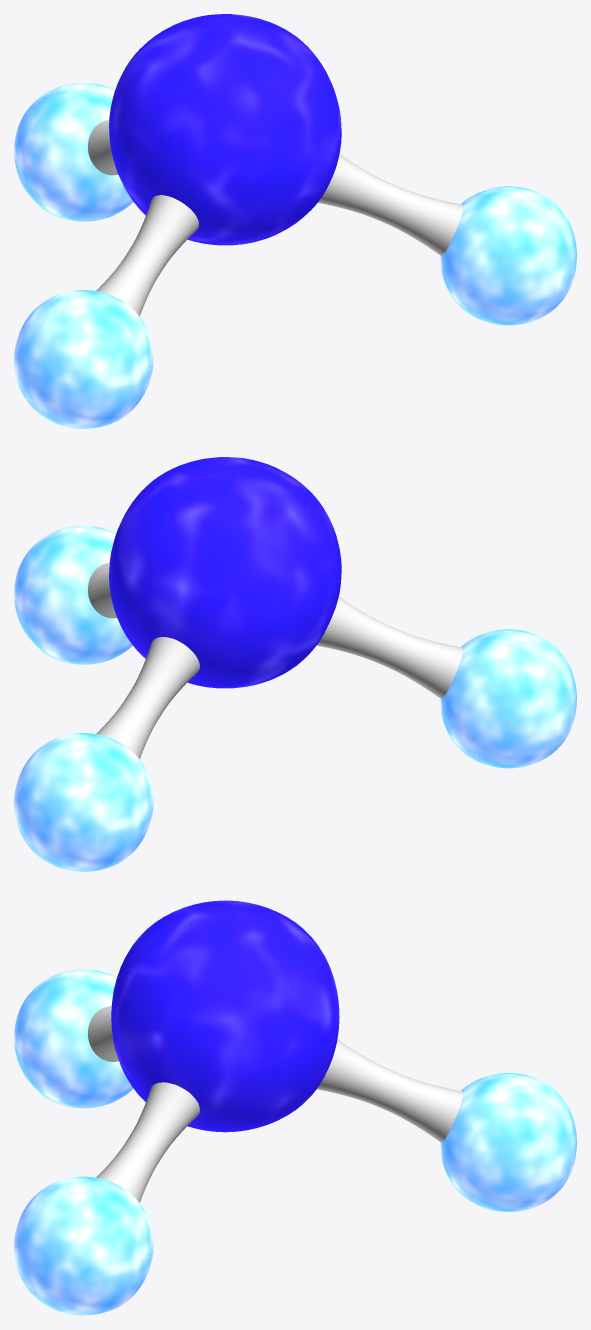
3 views of the same model, one above another, from view 1: azimuth 30°, elevation 25°; view 2: azimuth 150°, elevation 25°; view 3: azimuth 270°, elevation 25° (orthographic).
Visible parts, largest first — view 1: sulfan; view 2: sulfan; view 3: sulfan.
Part boxes in pixels (box(x1,y1,x2,y2)): sulfan: box(14, 14, 576, 428); sulfan: box(14, 457, 576, 871); sulfan: box(14, 900, 576, 1315).
Size of the model in its own units: 5.58 by 2.85 by 4.98.
3 materials, 2 textured.
